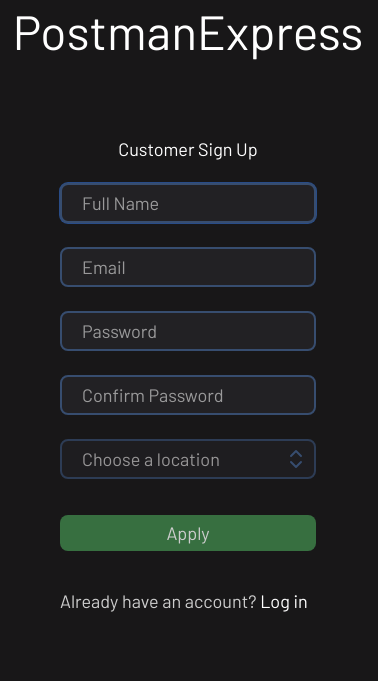
it: Signup Form › It displays error if fields are in invalid format
This screenshot has width=378, height=681.
In the field with placeholder "Full Name": (188, 203) 60,183 -> 316,223, type "Invalid"
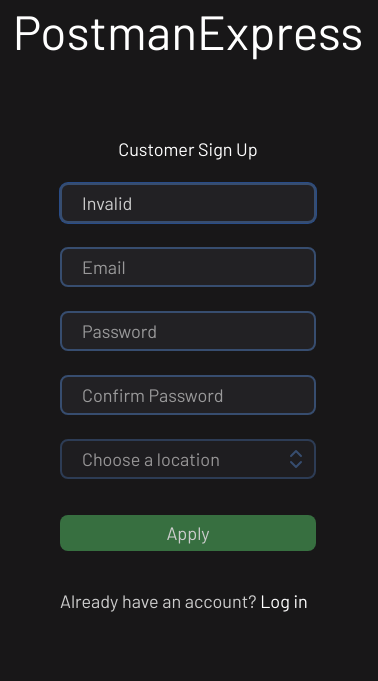
In the field with placeholder "Email": (188, 267) 60,247 -> 316,287, type "Invalid"
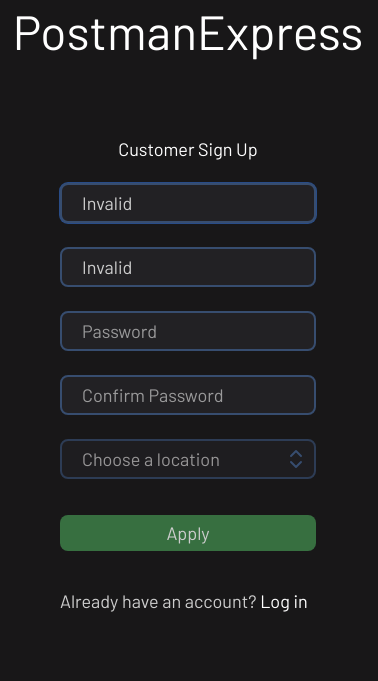
In the password field with placeholder "Password": (188, 331) 60,311 -> 316,351, type "123456"
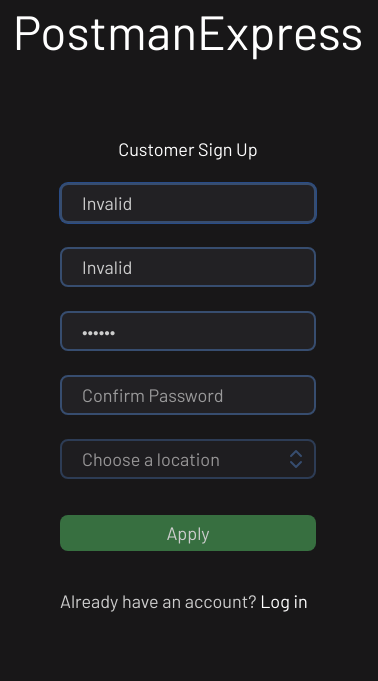
In the password field with placeholder "Confirm Password": (188, 395) 60,375 -> 316,415, type "InvalidMatch"
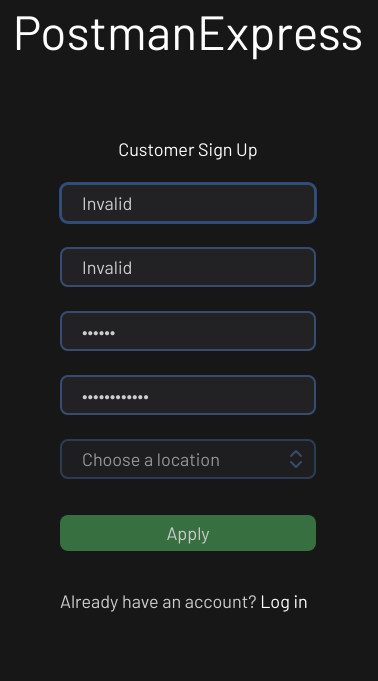
Click the button: (188, 533) 60,515 -> 316,551
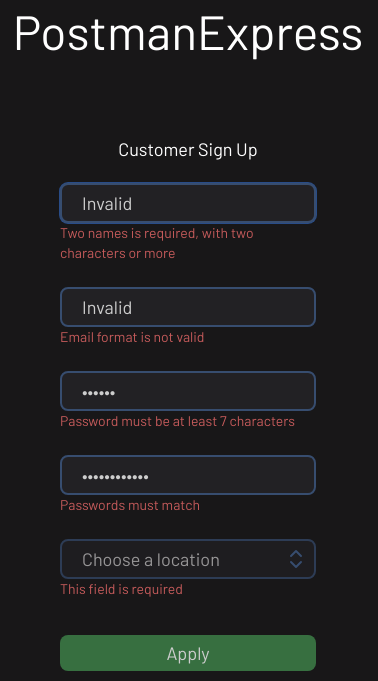
Check: the text "Email format is not valid" is shown, box 60,327 -> 204,347
Check: the text "Password must be at least 7 characters" is shown, box 60,411 -> 295,431
Check: the text "Passwords must match" is shown, box 60,495 -> 200,515
